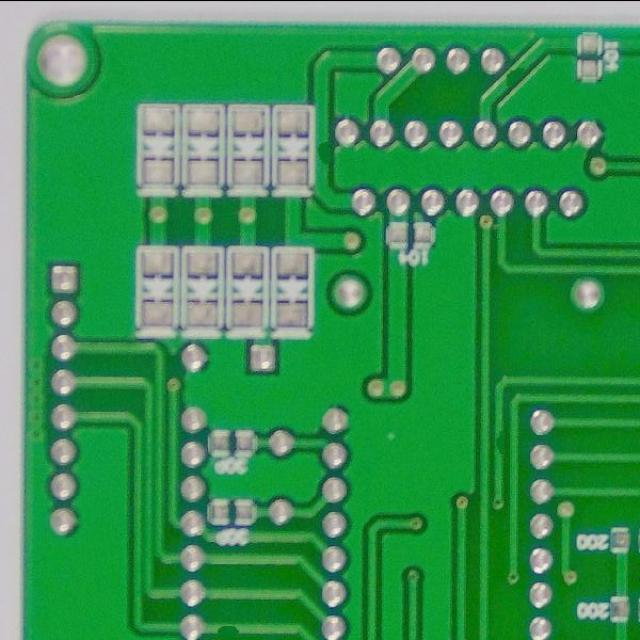mouse_bite: (498, 61, 529, 93), (313, 134, 334, 170), (490, 424, 511, 458), (213, 619, 244, 639)
